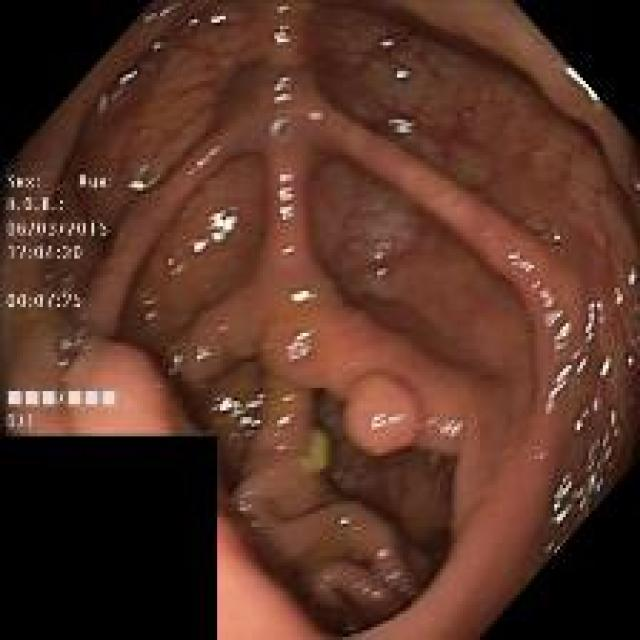Polyps: (345, 375, 418, 457)
